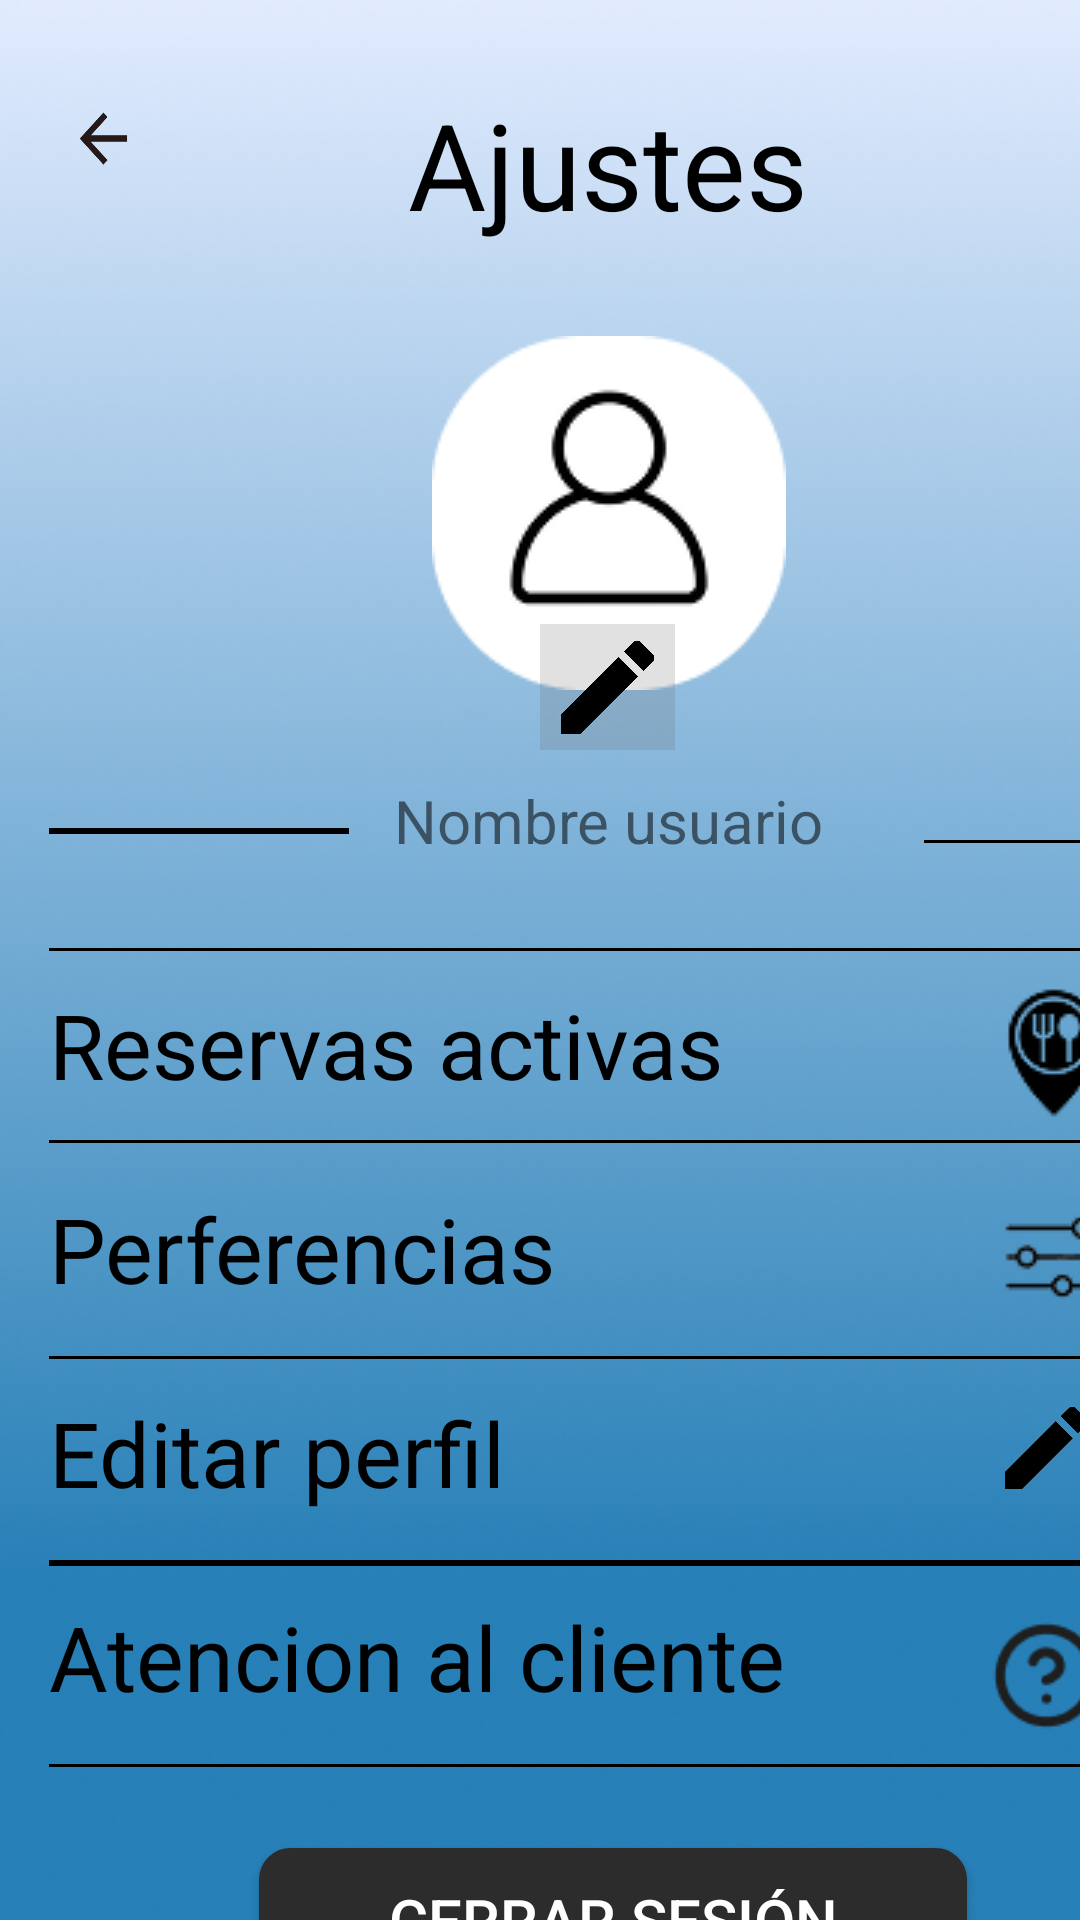

Icons on this 1080 × 1920 Android screen, each with its box as bbox=(x1, y1, x2, y2):
flecha atras negra: bbox=(80, 112, 127, 165)
